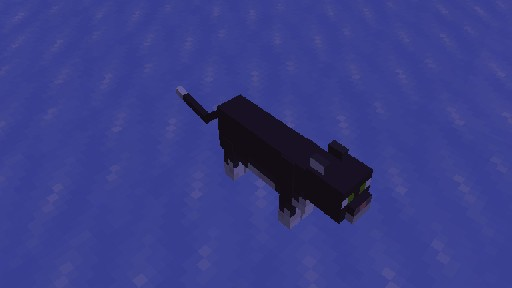cat: (175, 84, 373, 230)
